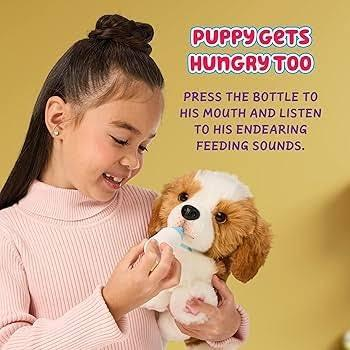non-dog: (140, 167, 271, 348)
